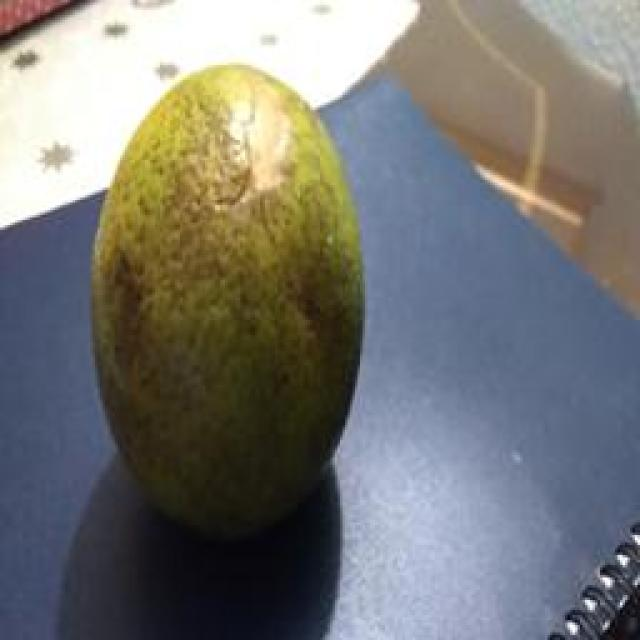Rotten_Orange: (65, 60, 377, 519)
